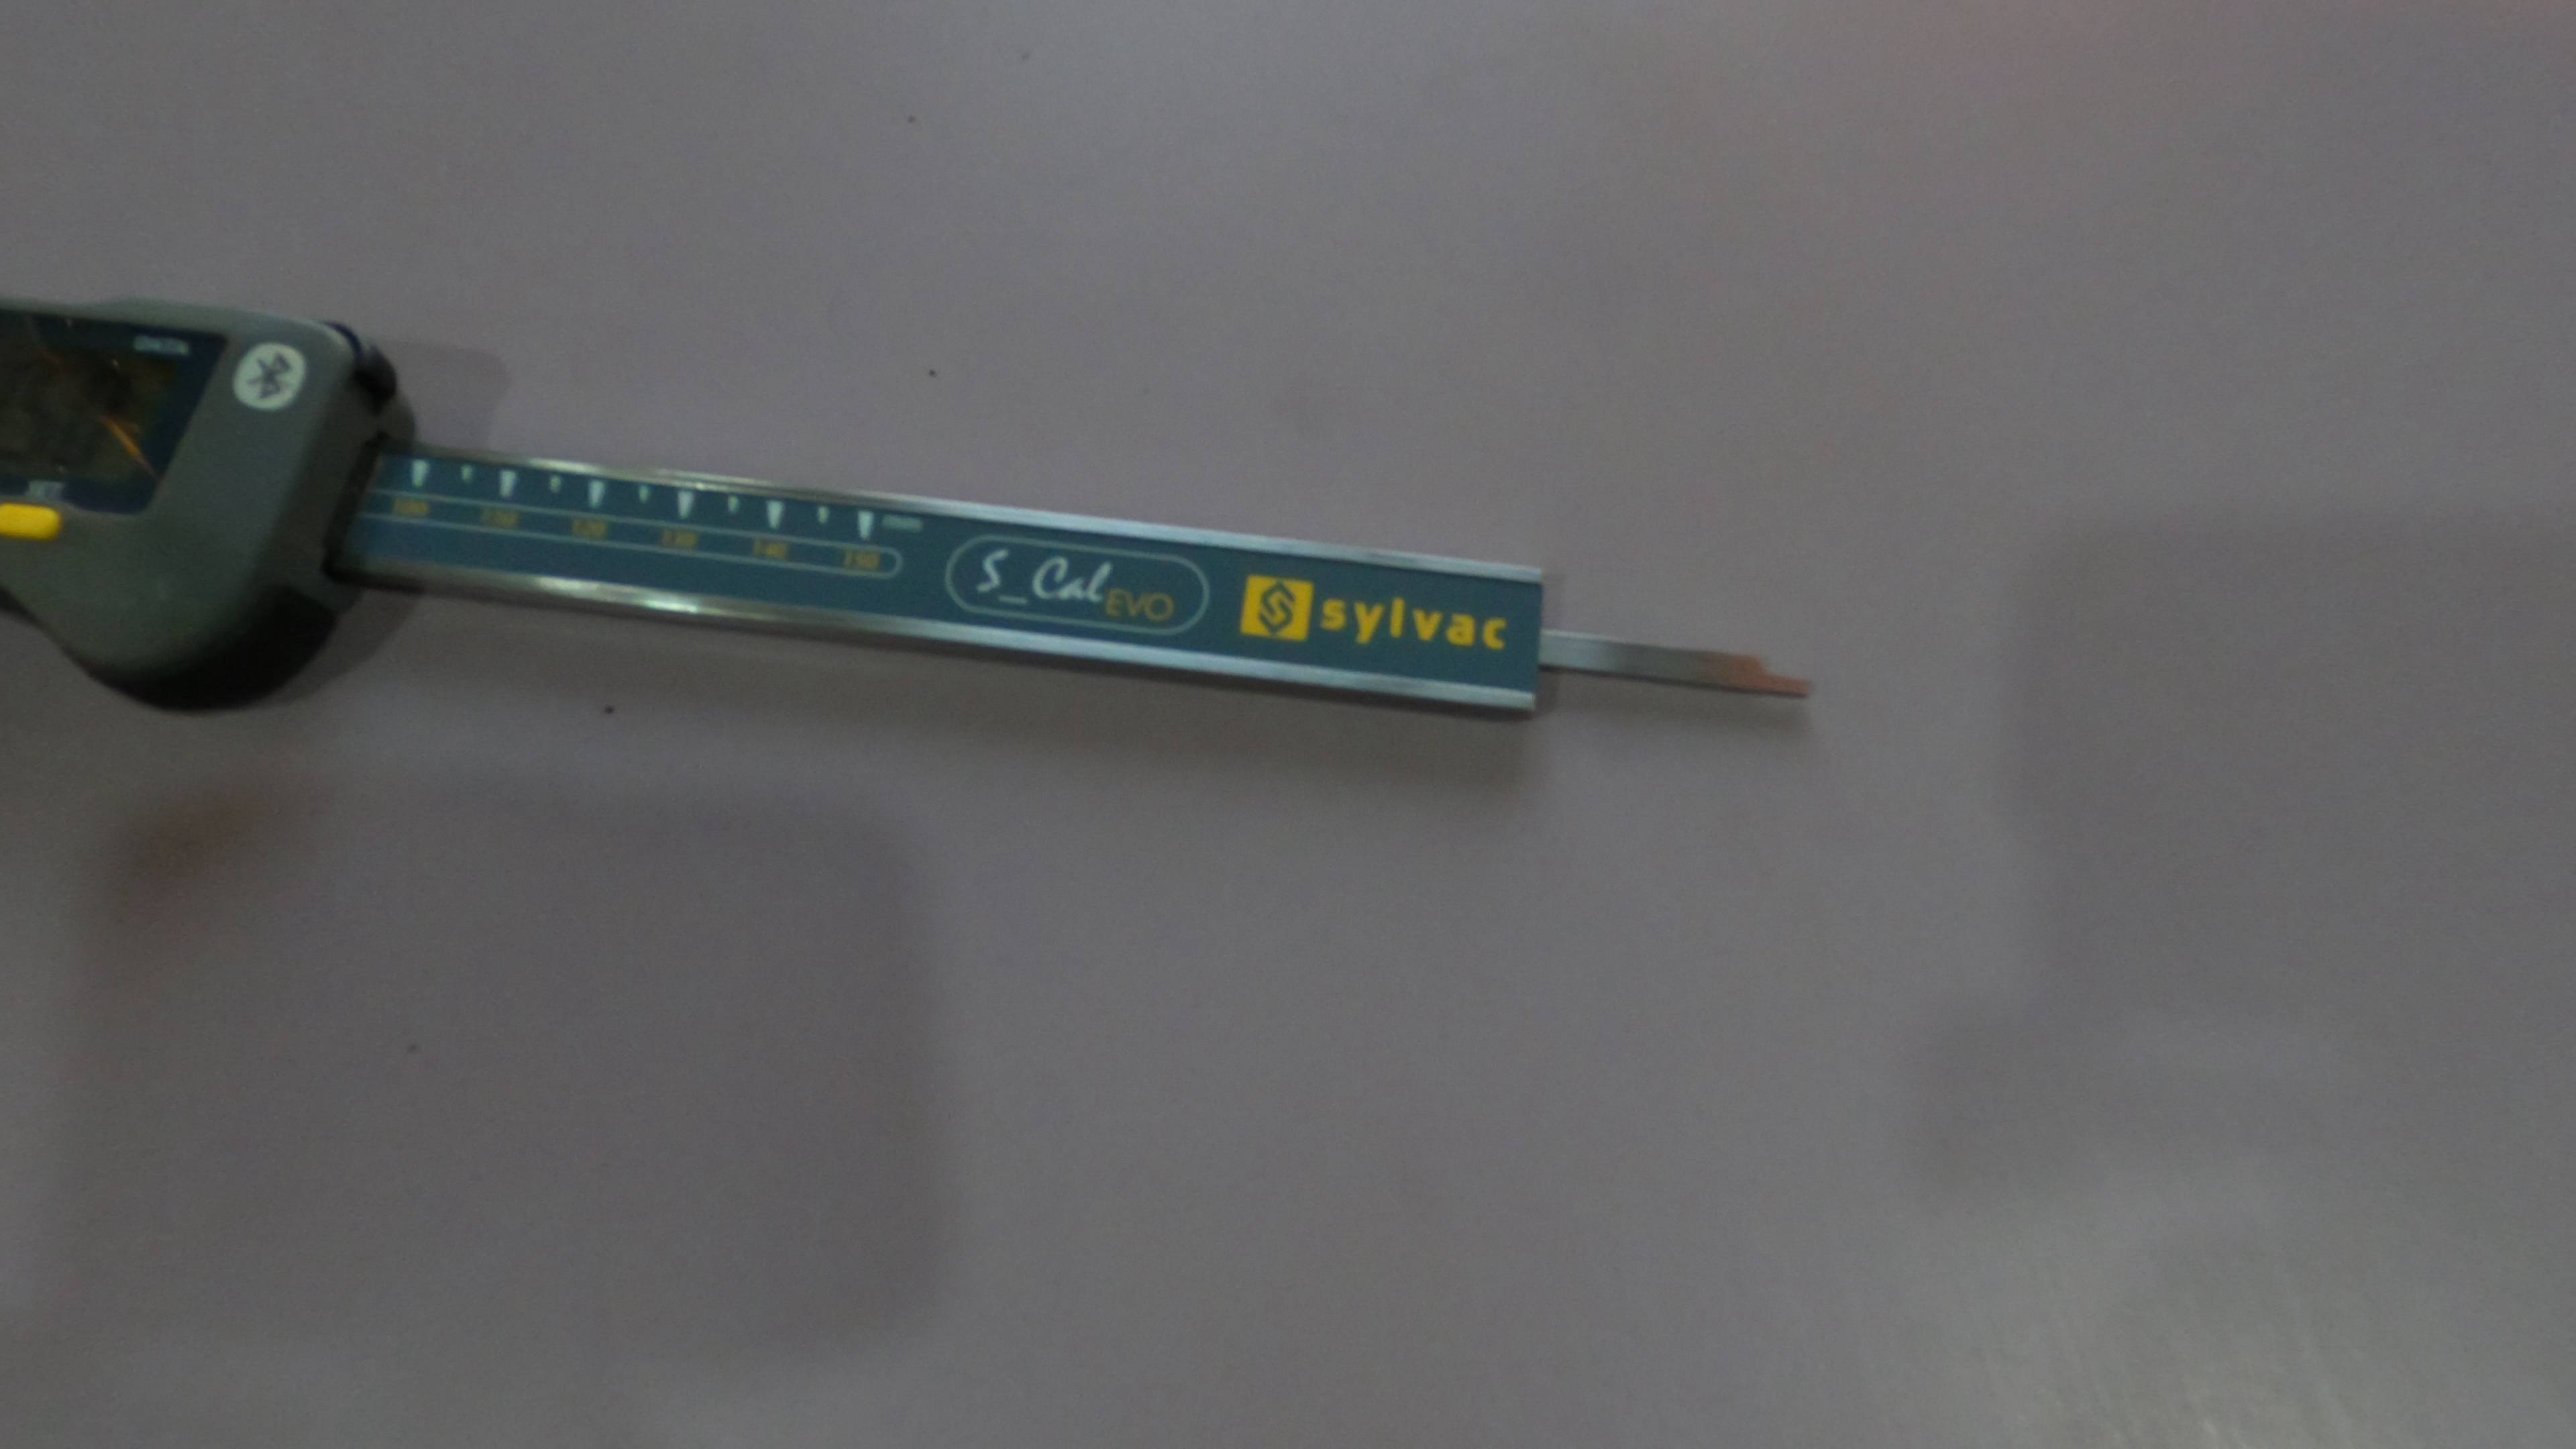vernier_caliper: (14, 237, 1828, 738)
